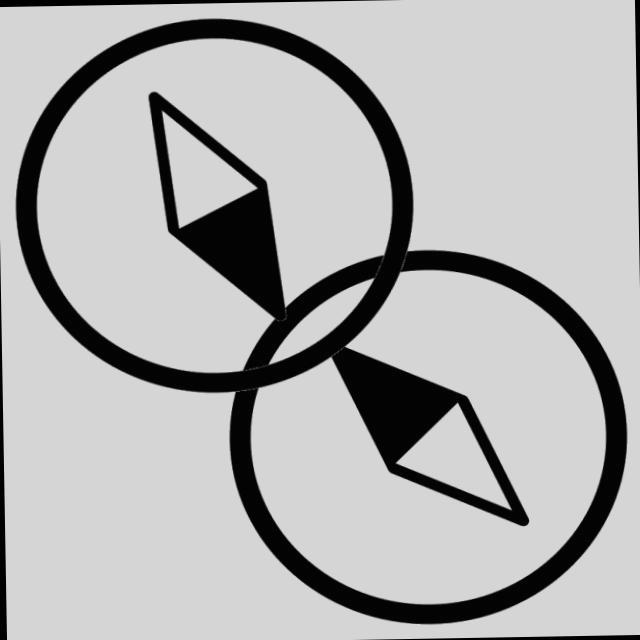compass: (213, 232, 637, 630), (9, 8, 428, 403)
